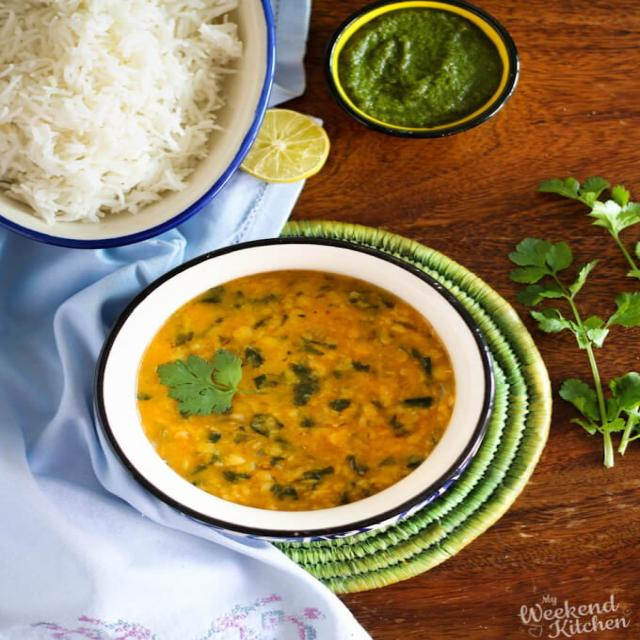dal: (175, 283, 442, 490)
rice: (15, 0, 219, 207)
